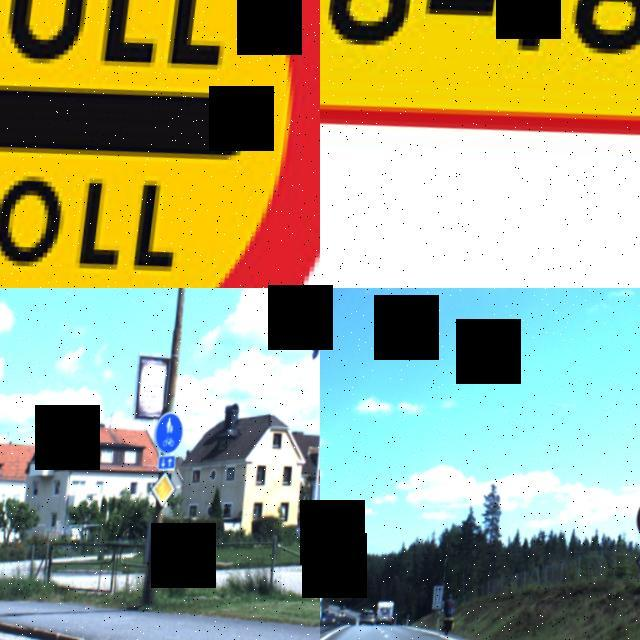181: (320, 0, 640, 169)
57: (150, 473, 182, 512), (157, 456, 182, 478)
66: (434, 586, 449, 607)
91: (152, 411, 190, 460)
Stop at customs: (0, 0, 320, 288)
